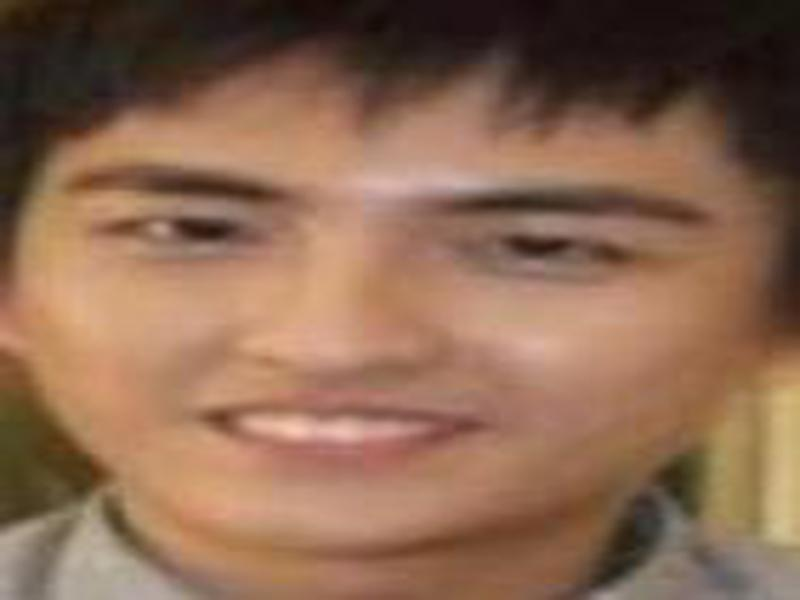without_mask: (16, 55, 789, 561)
